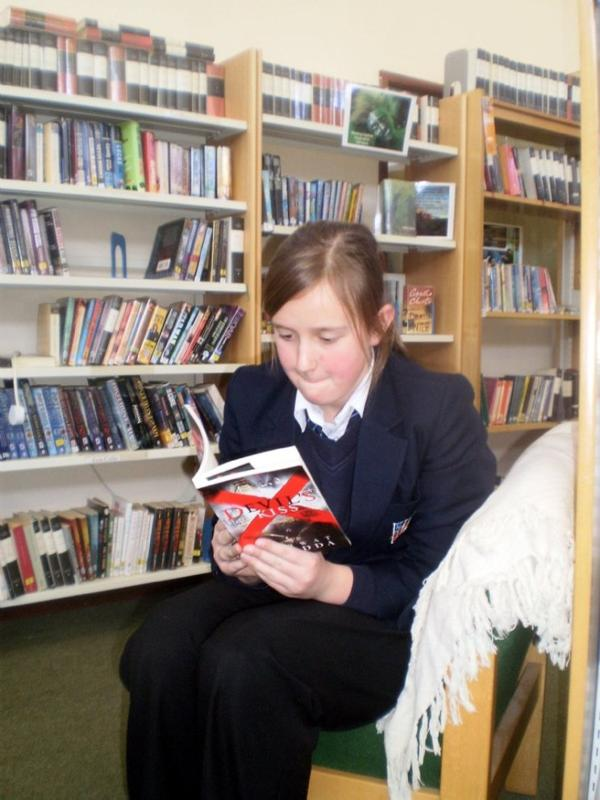person: (119, 223, 504, 798)
